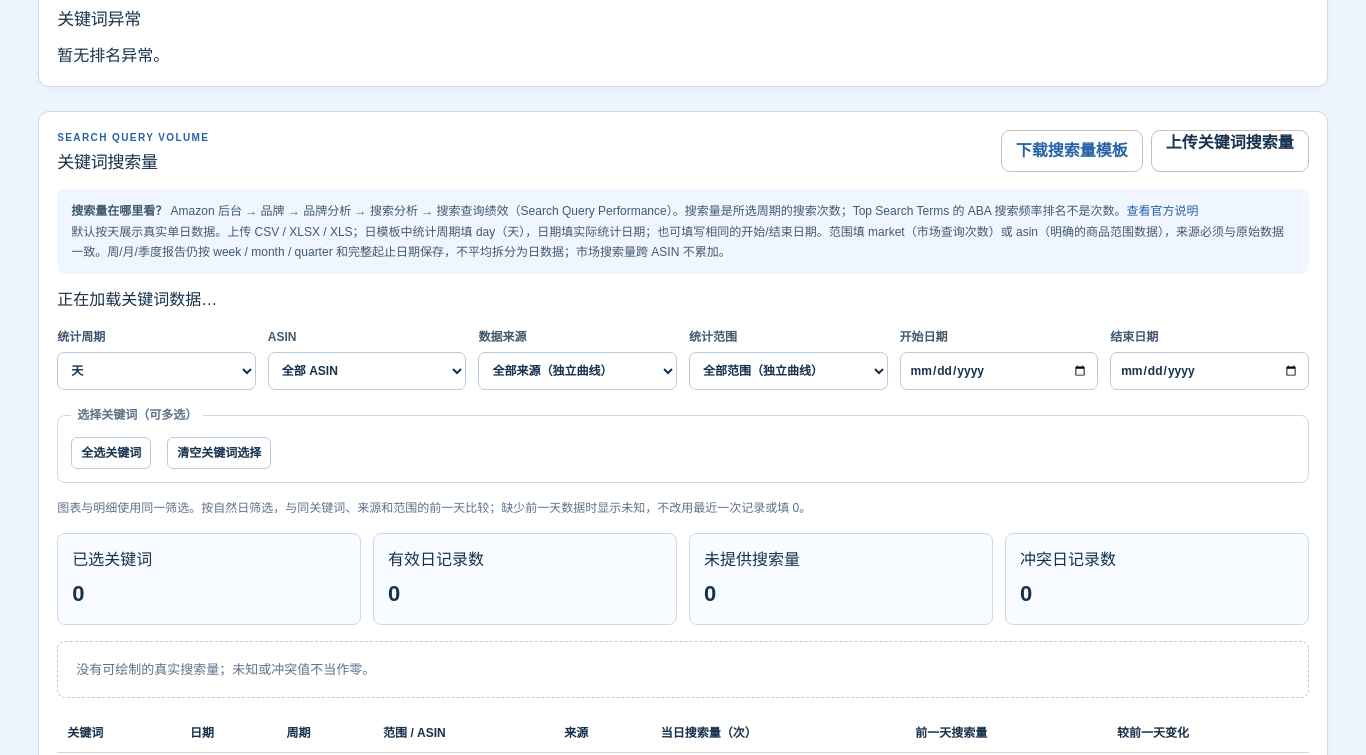
Scenario: separates search volume records from organic and ABA ranking analytics
(page scrolled)
Expected: the heading "关键词搜索量" is shown, [57, 153, 158, 172]
Select "周（原报告）" in the dropdown named "搜索量统计周期" at (156, 371), box [57, 352, 256, 390]
(page scrolled)
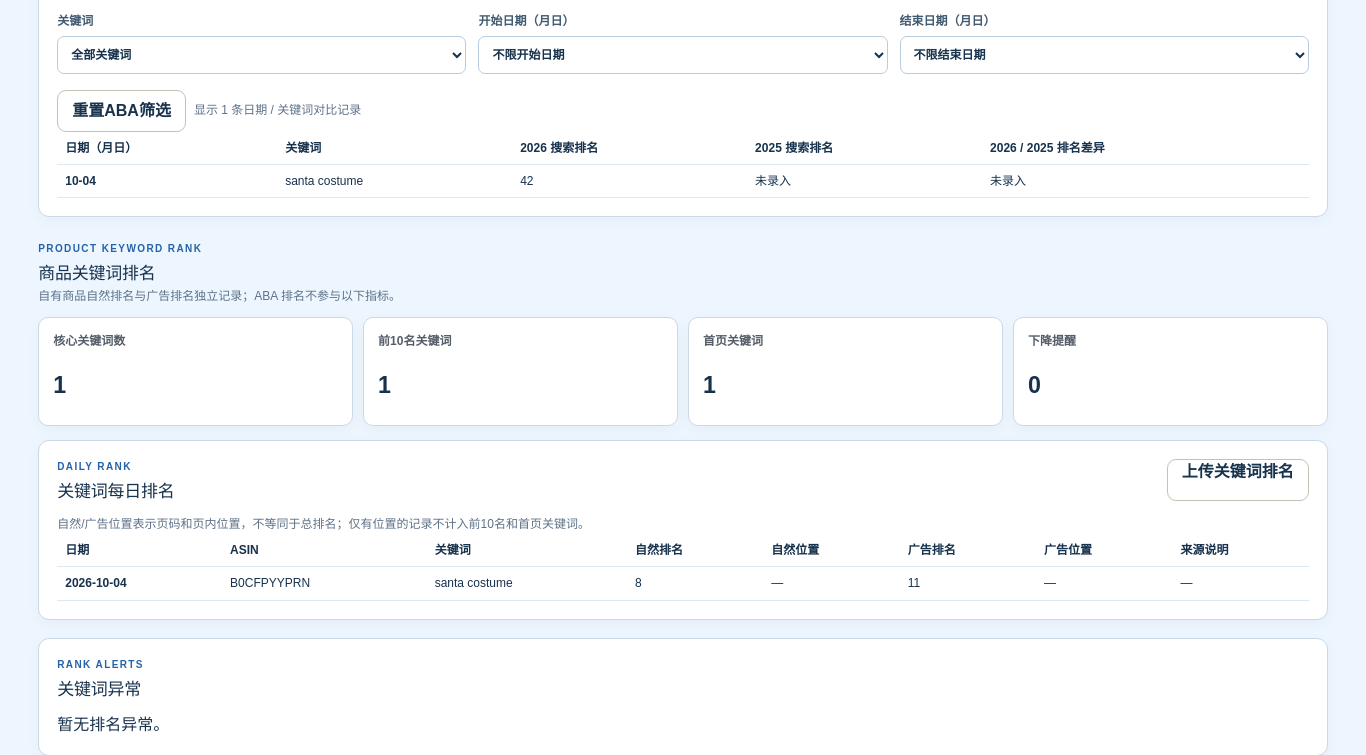
Expected: the table named "ABA搜索排名" shows "42", [520, 174, 534, 188]
